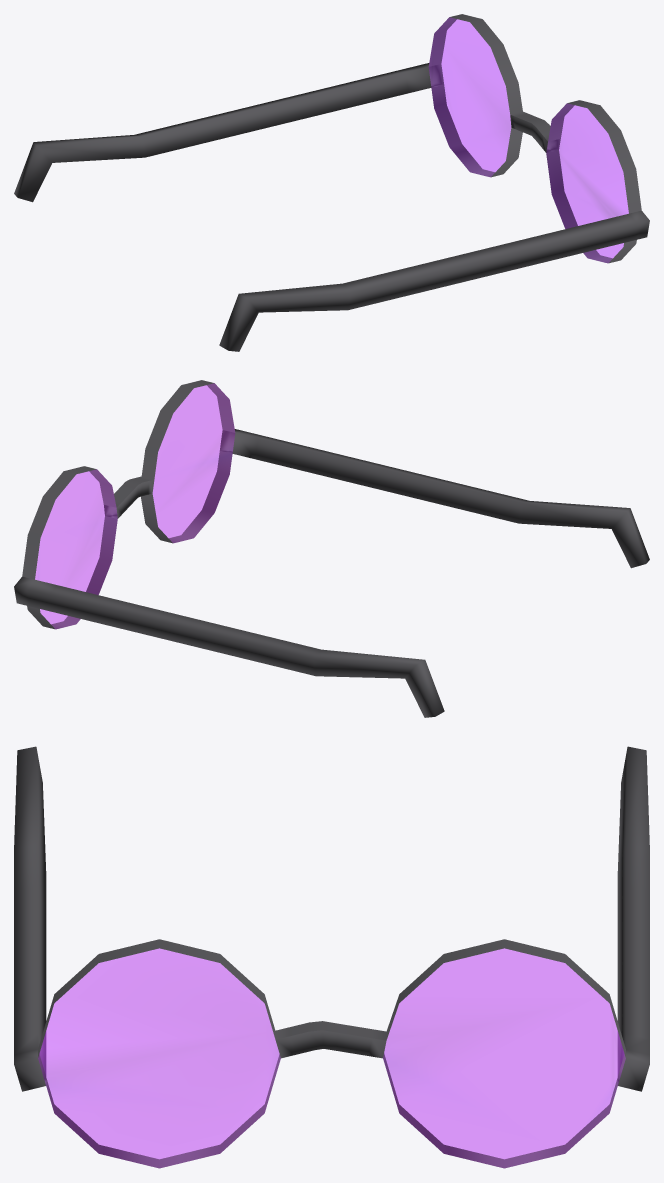
File: glasses.fbx
3 views of the same model, one above another, from view 1: azimuth 30°, elevation 25°; view 2: azimuth 150°, elevation 25°; view 3: azimuth 270°, elevation 25° (orthographic). The views are drawn at different scales.
Visible parts, largest first — view 1: akiniai; view 2: akiniai; view 3: akiniai.
Boxes of the visible parts, left/top/right/bottom form: akiniai: left=14, top=14, right=649, bottom=351; akiniai: left=14, top=380, right=649, bottom=717; akiniai: left=14, top=746, right=649, bottom=1168.
Size of the model in its own units: 3.3 by 1.12 by 2.93.
